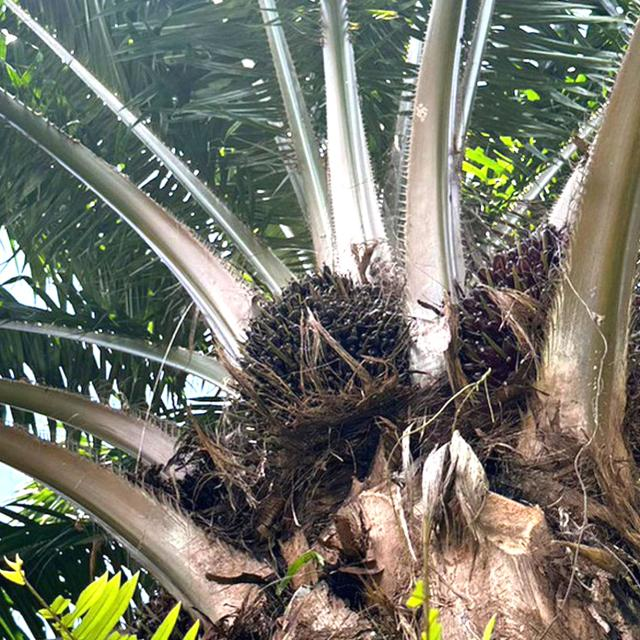unripe: (231, 254, 417, 430), (443, 211, 593, 415)
